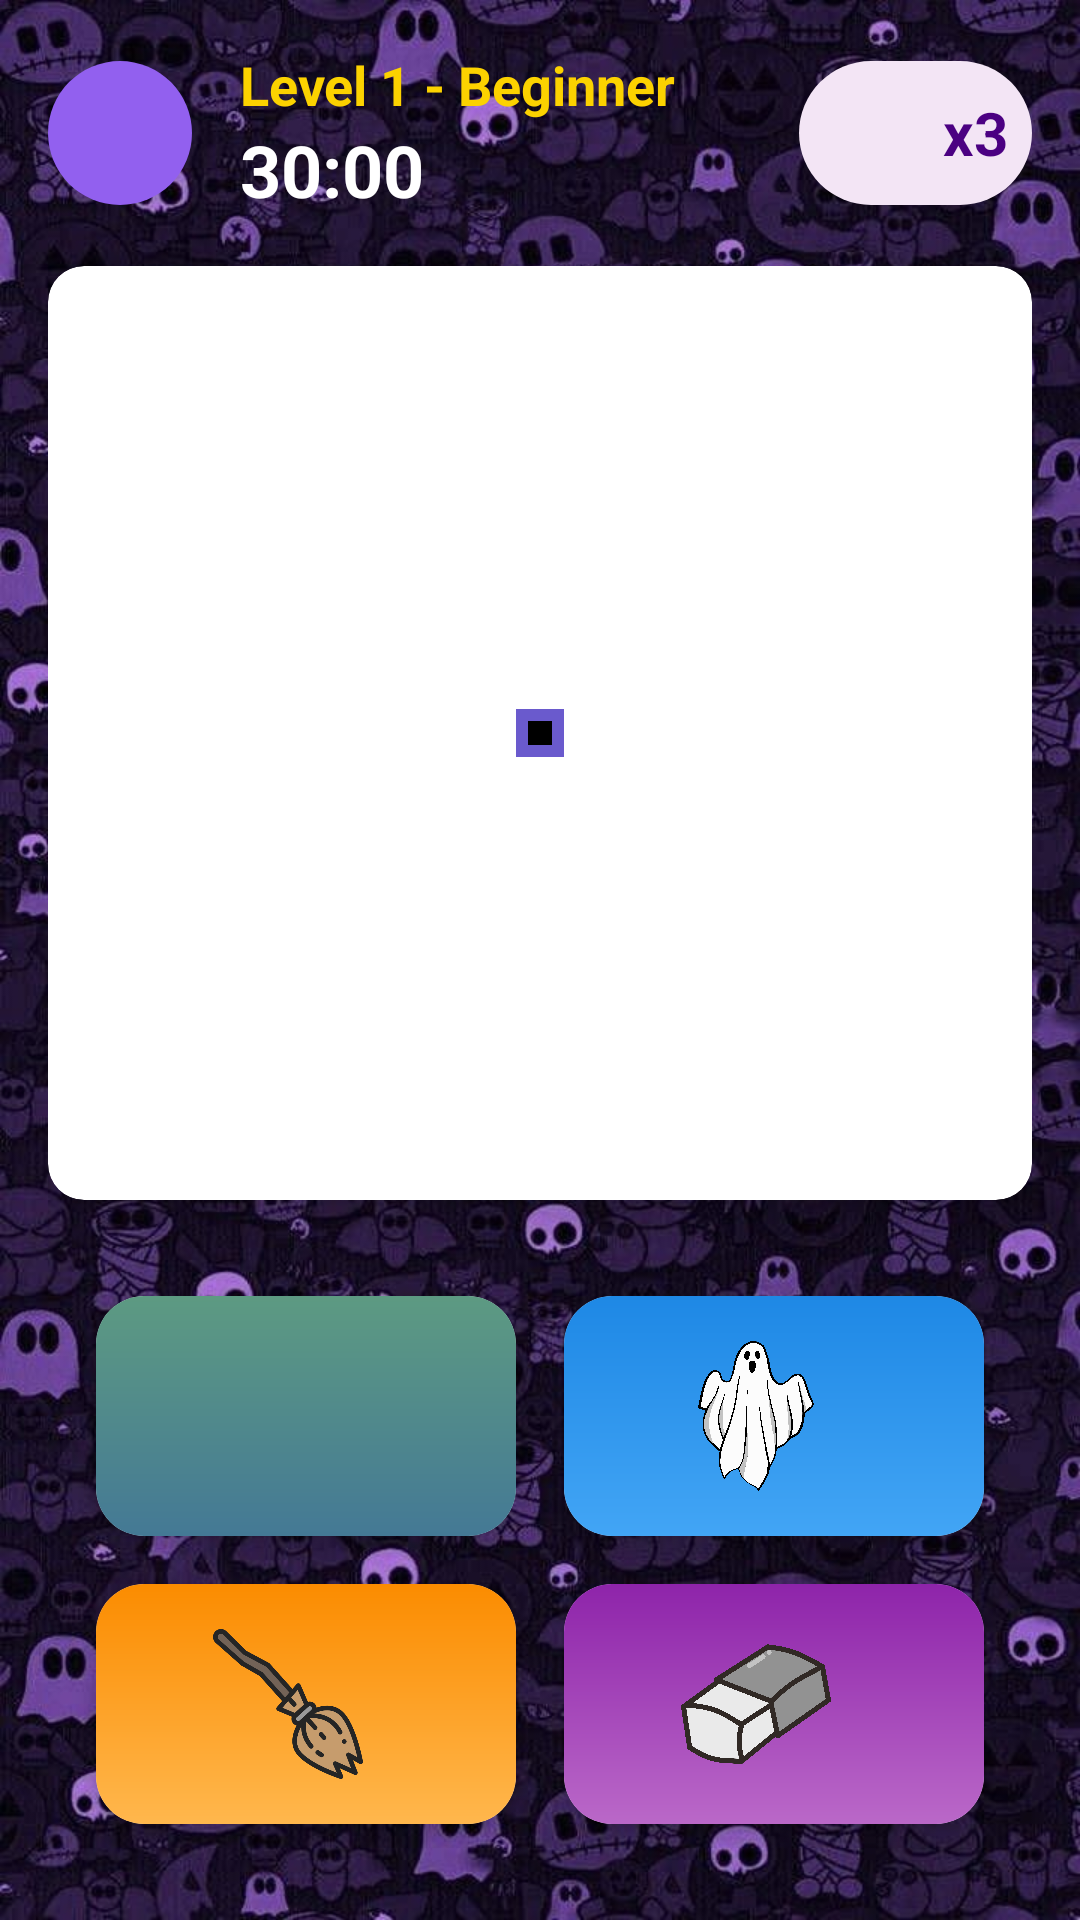

Icon click points for this 1080 x 1920 phone screenshot, format (x=x, y=y):
broom: (x=288, y=1704)
ghostcartoon: (x=756, y=1416)
undoeraser: (x=756, y=1704)
